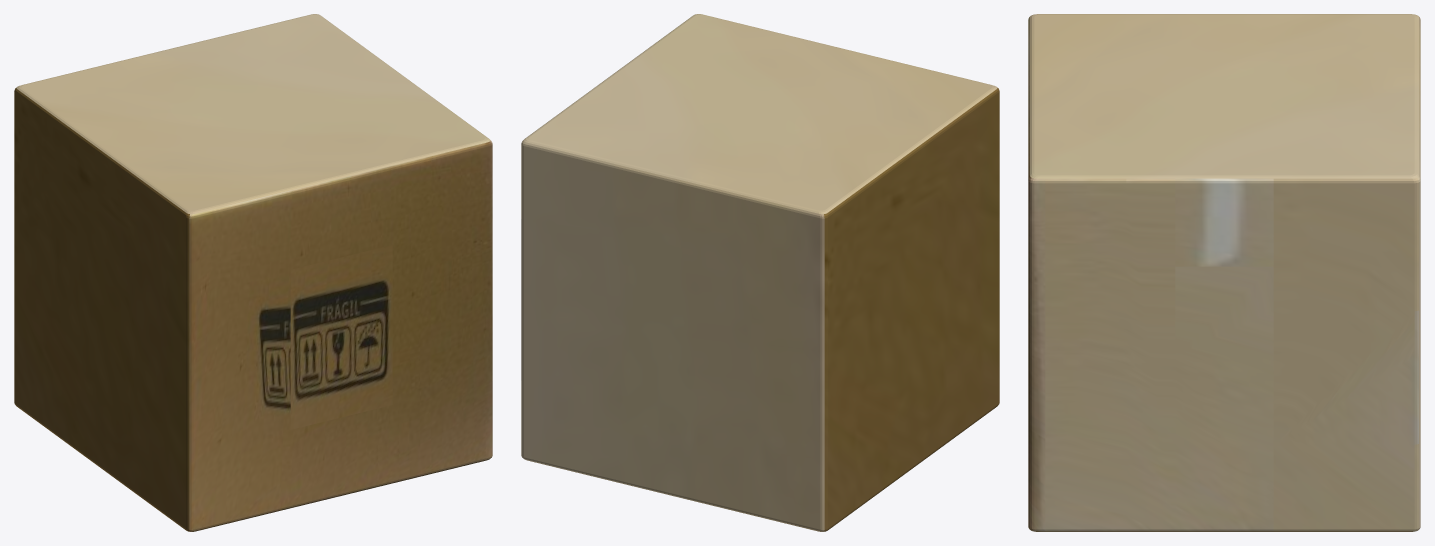
3 views of the same model, side by side, from view 1: azimuth 30°, elevation 25°; view 2: azimuth 150°, elevation 25°; view 3: azimuth 270°, elevation 25° (orthographic). The views are drawn at different scales.
Parts seen in each view (by area): view 1: Box Packaging; view 2: Box Packaging; view 3: Box Packaging.
Boxes of the visible parts, x1,y1,x2,y2 form: Box Packaging: [14, 14, 492, 531]; Box Packaging: [521, 14, 999, 531]; Box Packaging: [1028, 14, 1420, 531].
Bounding box in the file's own units: 200 × 200 × 200.
Materials: 1 (1 with a texture image).
